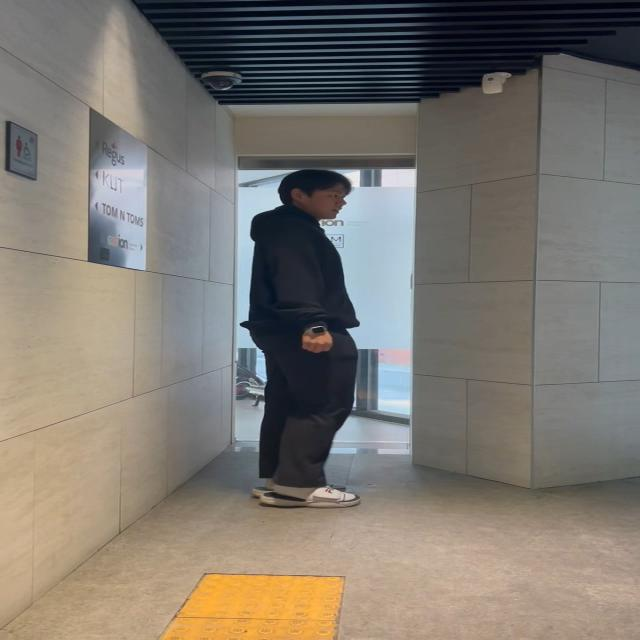leg: (264, 325, 362, 506)
